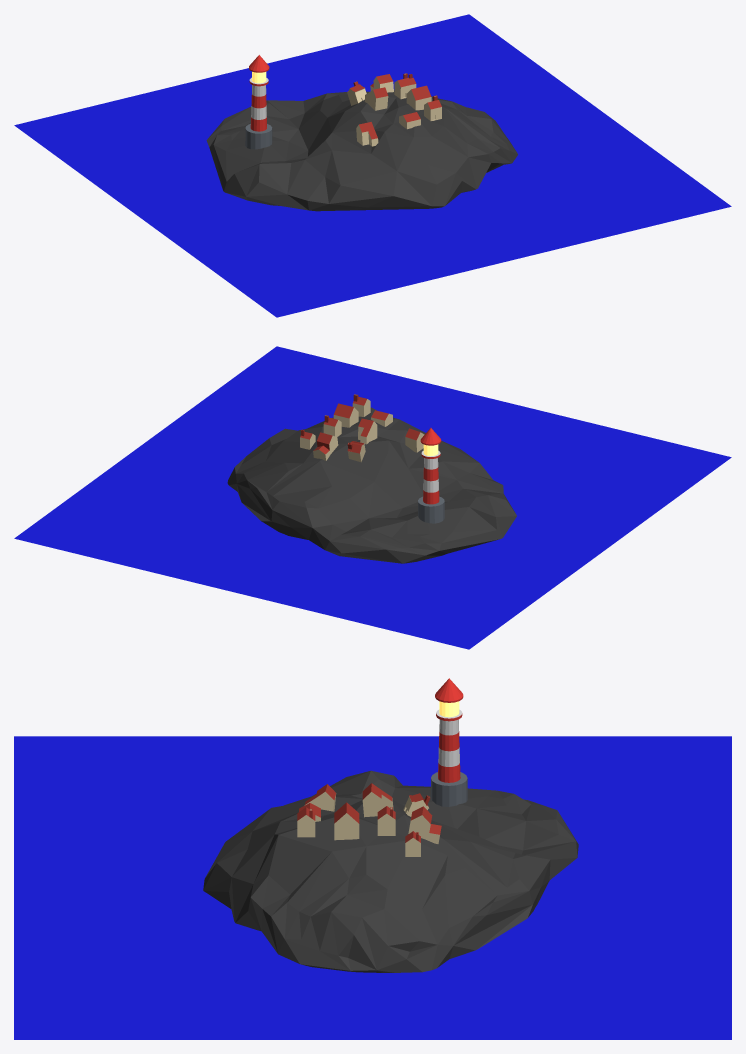
The model's file is lighthouse.glb.
3 renders of one model, top to bottom at view 1: azimuth 30°, elevation 25°; view 2: azimuth 150°, elevation 25°; view 3: azimuth 270°, elevation 25°, orthographic. The views are drawn at different scales.
Visible parts, largest first — view 1: Plane, Rocky Base, Lighthouse; view 2: Plane, Rocky Base, Lighthouse; view 3: Plane, Rocky Base, Lighthouse, House Var 3 2, House Var 4 2, House Var 2 2.
Part boxes in pixels (x1,y1,x2,y2): Plane: (14,14,731,317); Rocky Base: (206,90,517,211); Lighthouse: (245,55,272,149); Plane: (14,346,731,649); Rocky Base: (227,407,516,563); Lighthouse: (418,428,444,523); Plane: (14,736,731,1039); Rocky Base: (203,770,578,972); Lighthouse: (431,678,467,806); House Var 3 2: (334,802,359,840); House Var 4 2: (408,806,441,843); House Var 2 2: (362,783,393,817).
Bounding box in the file's own units: 16.89 × 3.96 × 16.89.
